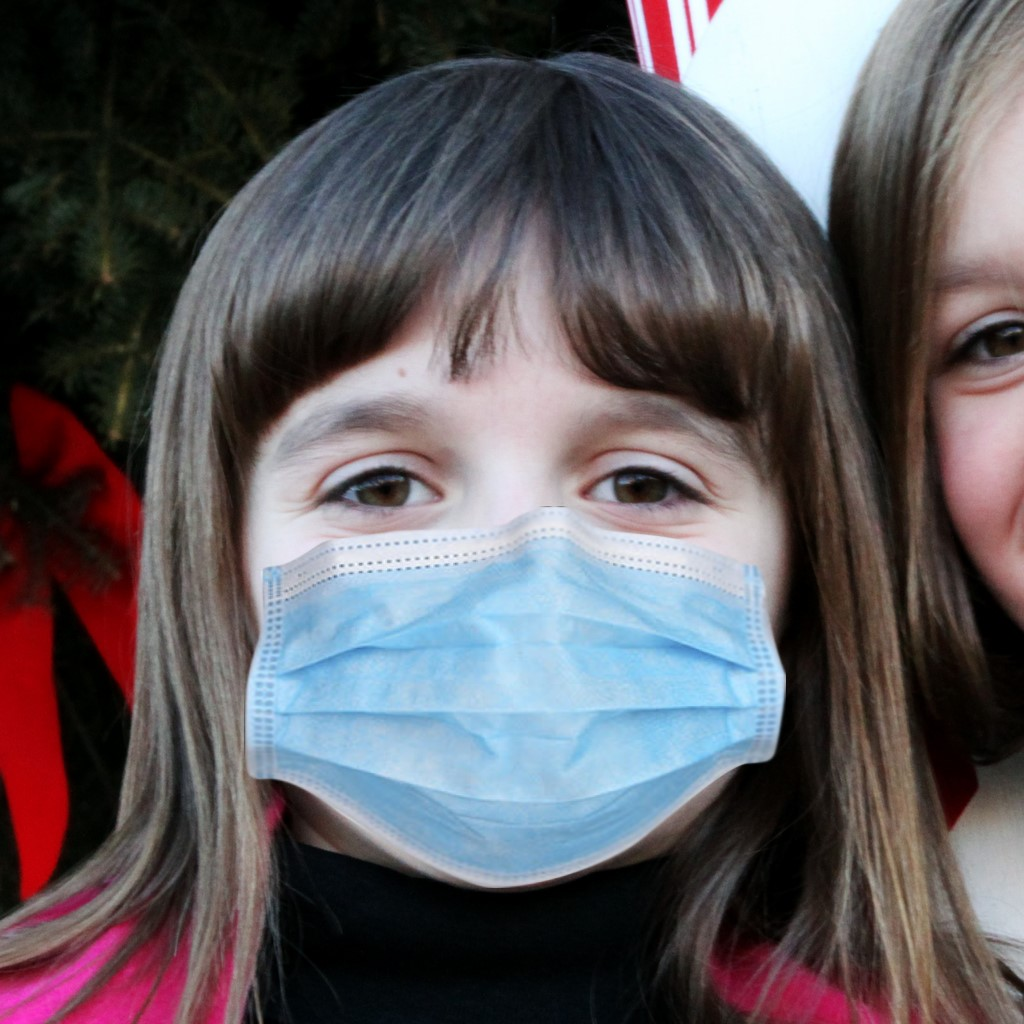con_mascara: (255, 244, 790, 872)
